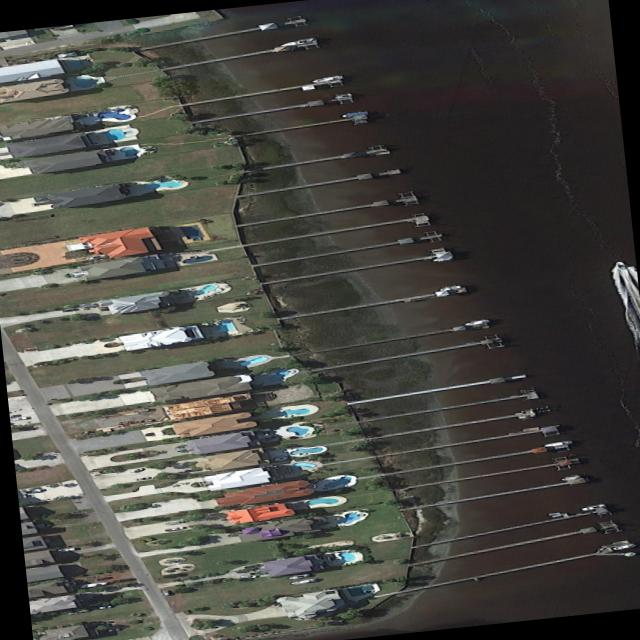ship: (277, 37, 316, 47), (309, 75, 342, 84), (76, 581, 108, 589), (289, 578, 318, 585), (612, 543, 636, 551), (578, 504, 605, 511), (341, 111, 366, 118), (462, 319, 487, 326), (541, 441, 570, 447), (559, 474, 581, 481), (83, 254, 108, 260), (437, 285, 462, 291), (286, 573, 310, 579), (17, 489, 40, 495), (431, 256, 453, 262), (613, 261, 625, 269)
small-vehicle: (111, 577, 135, 583), (89, 605, 111, 610), (239, 564, 261, 569), (164, 526, 182, 532), (126, 468, 144, 473), (165, 520, 183, 525), (96, 620, 114, 625), (133, 476, 150, 481), (95, 576, 112, 581), (59, 308, 78, 312), (104, 628, 120, 632), (160, 590, 169, 596), (239, 575, 257, 578)
